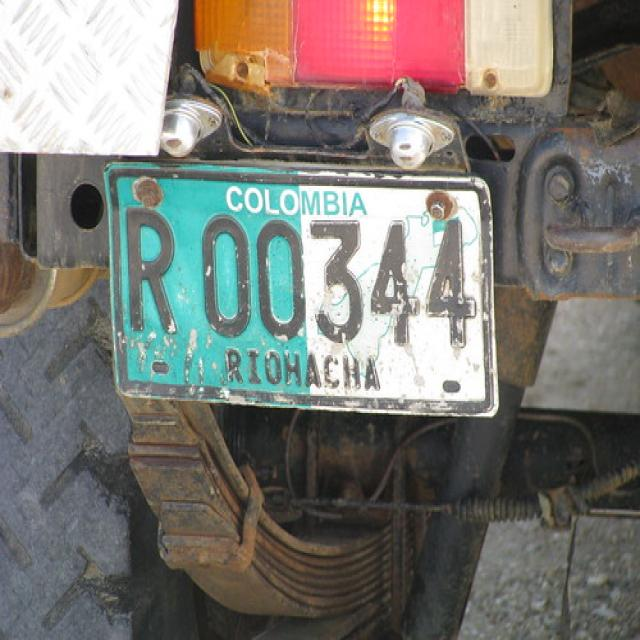placas: (112, 195, 486, 359)
